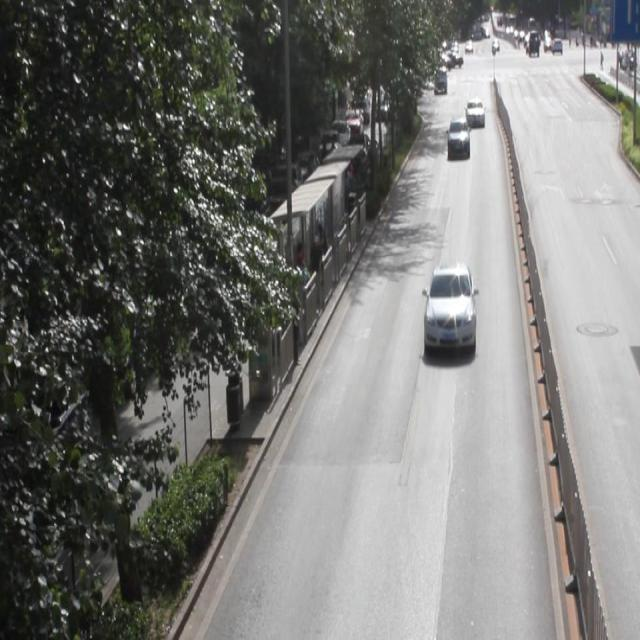car: (424, 261, 476, 353), (446, 116, 469, 158), (463, 97, 485, 128)
